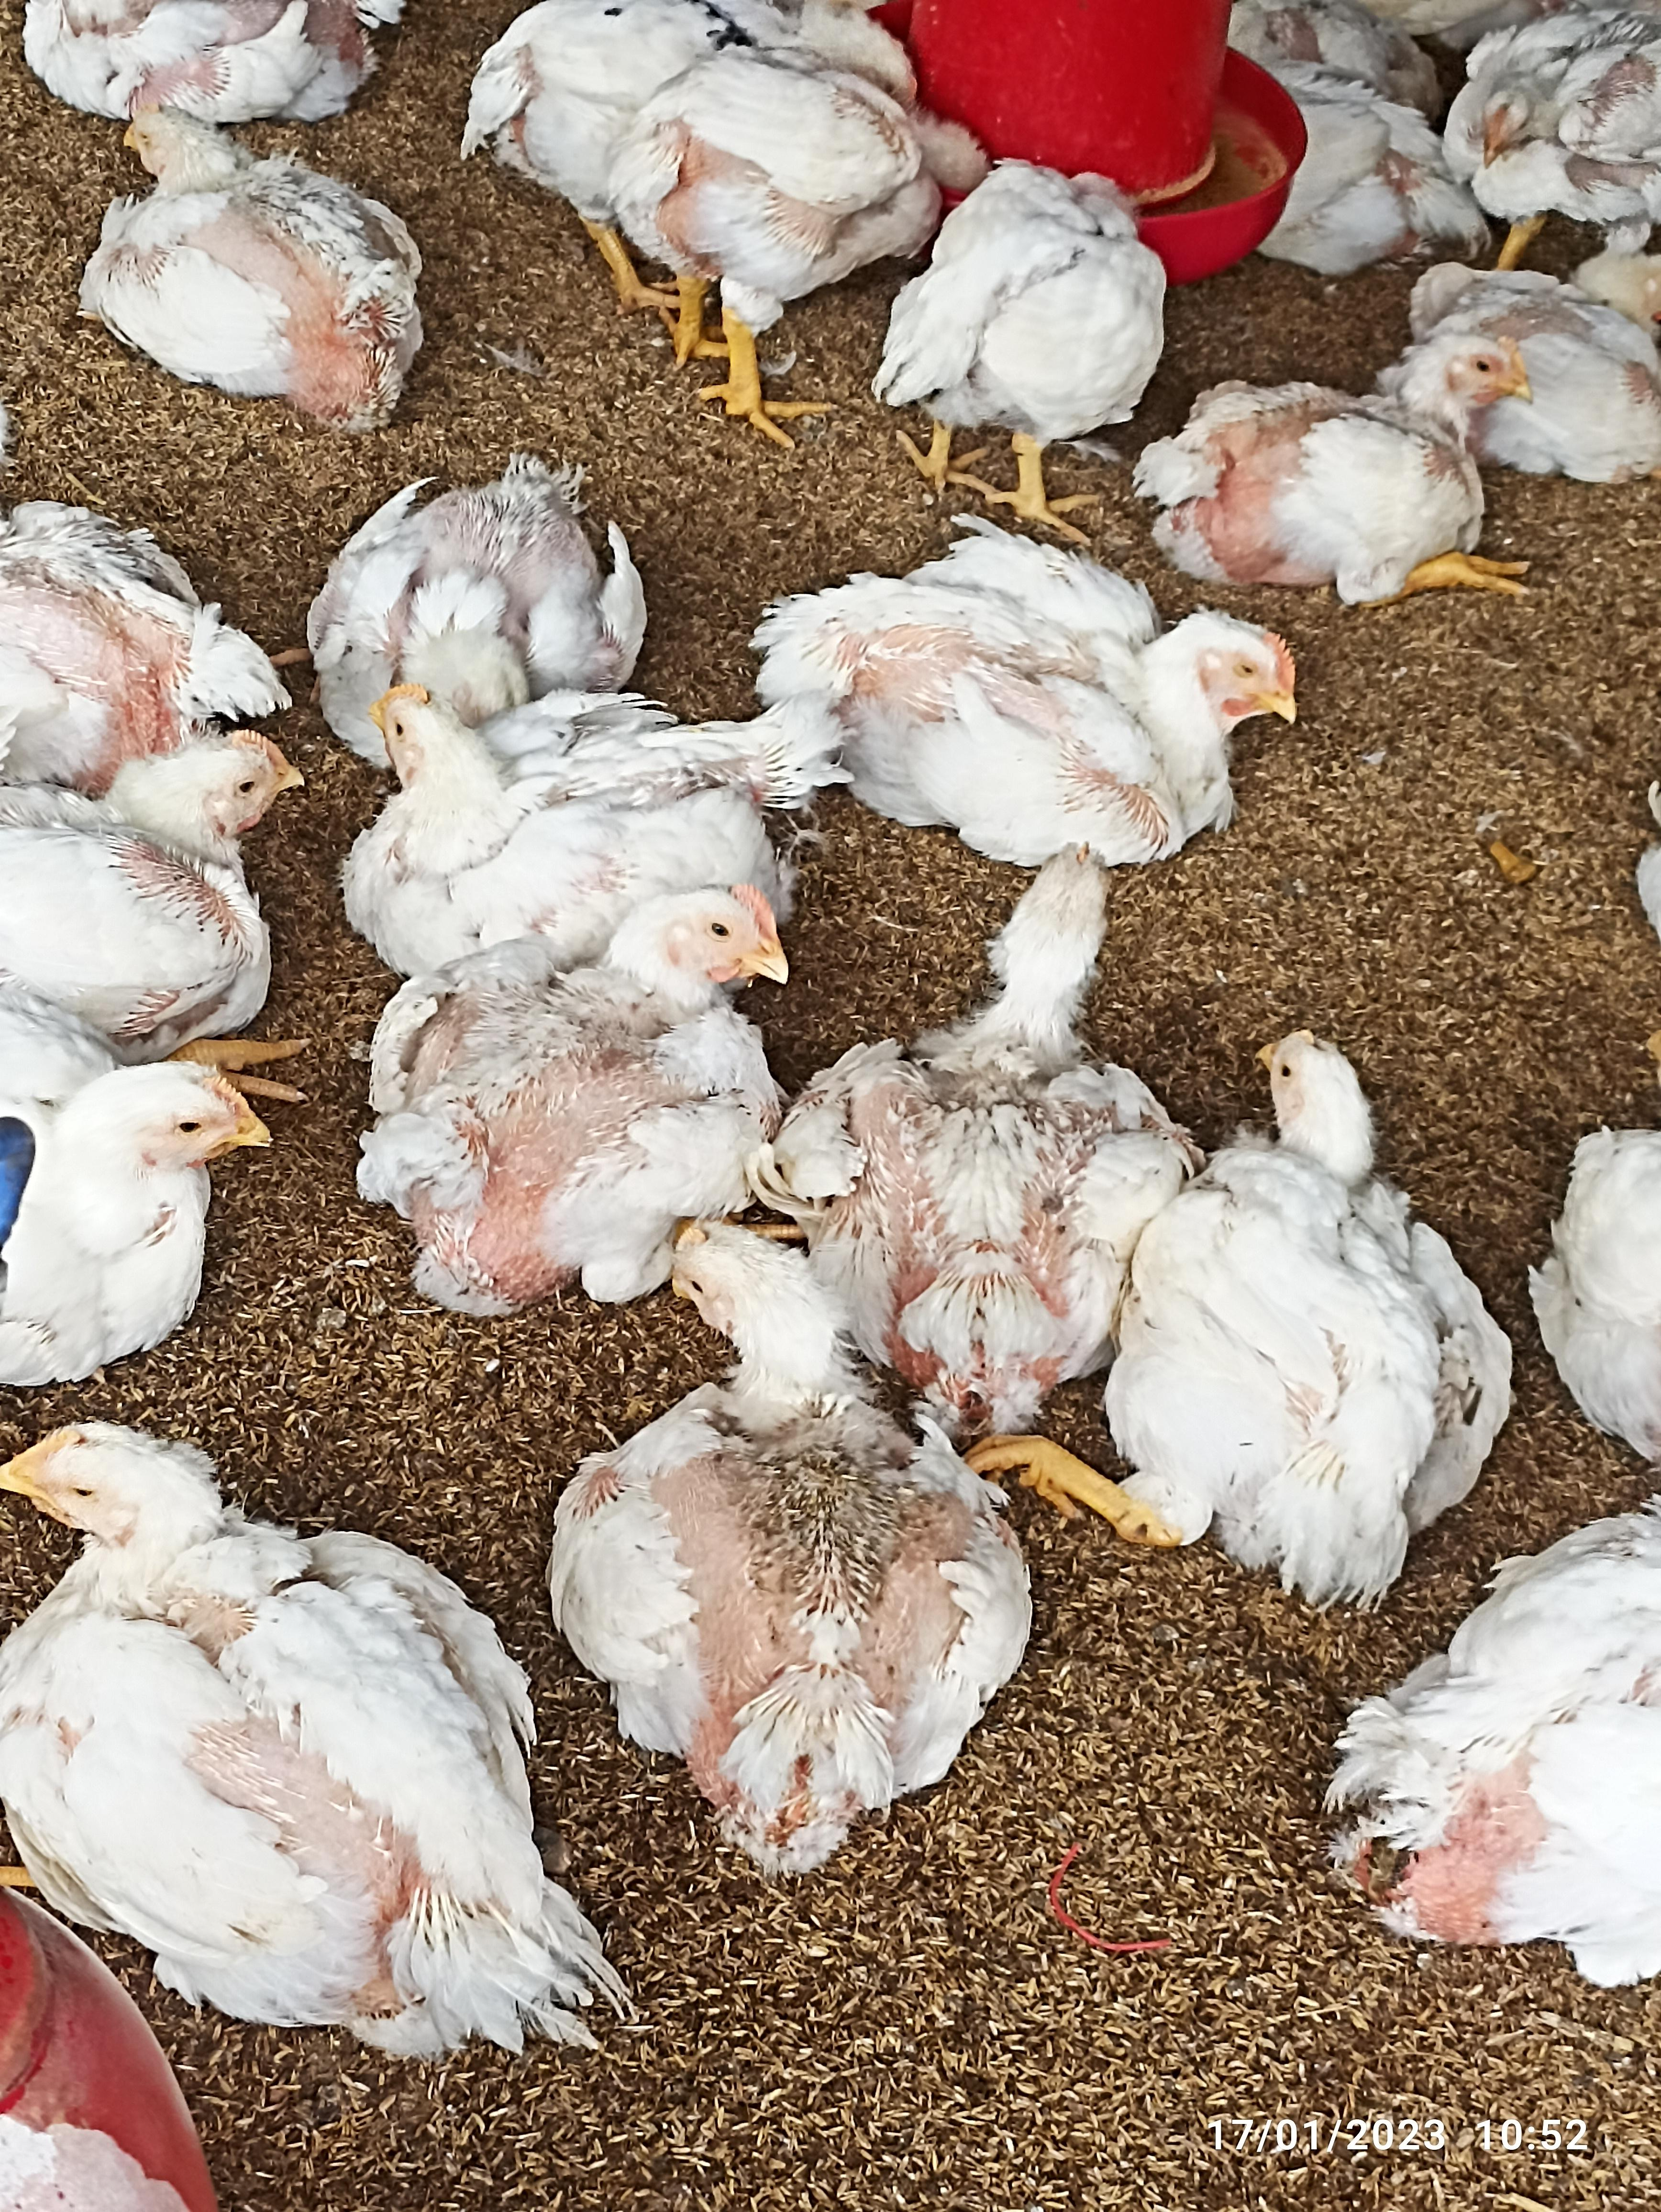Pollos: (0, 1430, 630, 2060), (558, 1225, 1035, 1833), (1136, 1012, 1527, 1554), (373, 874, 808, 1301), (818, 860, 1148, 1359), (768, 536, 1300, 816), (1136, 337, 1546, 586), (82, 112, 400, 427), (0, 727, 305, 1038), (309, 441, 630, 734), (623, 47, 960, 290), (879, 166, 1169, 438), (342, 684, 818, 843)
